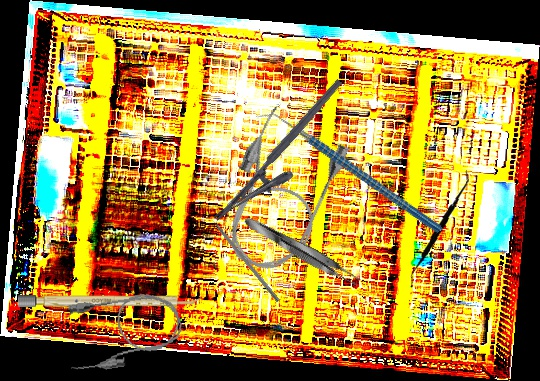Cannula: (206, 103, 354, 282), (59, 286, 188, 376)
Chopper: (256, 66, 443, 279)
Hook Surgical: (205, 210, 281, 303)
Needle Holder: (211, 77, 363, 240)
Scalpel Handle: (18, 295, 200, 307)
Spatula Surgical: (404, 170, 474, 286)
Tissue Forceps: (240, 211, 364, 291)
